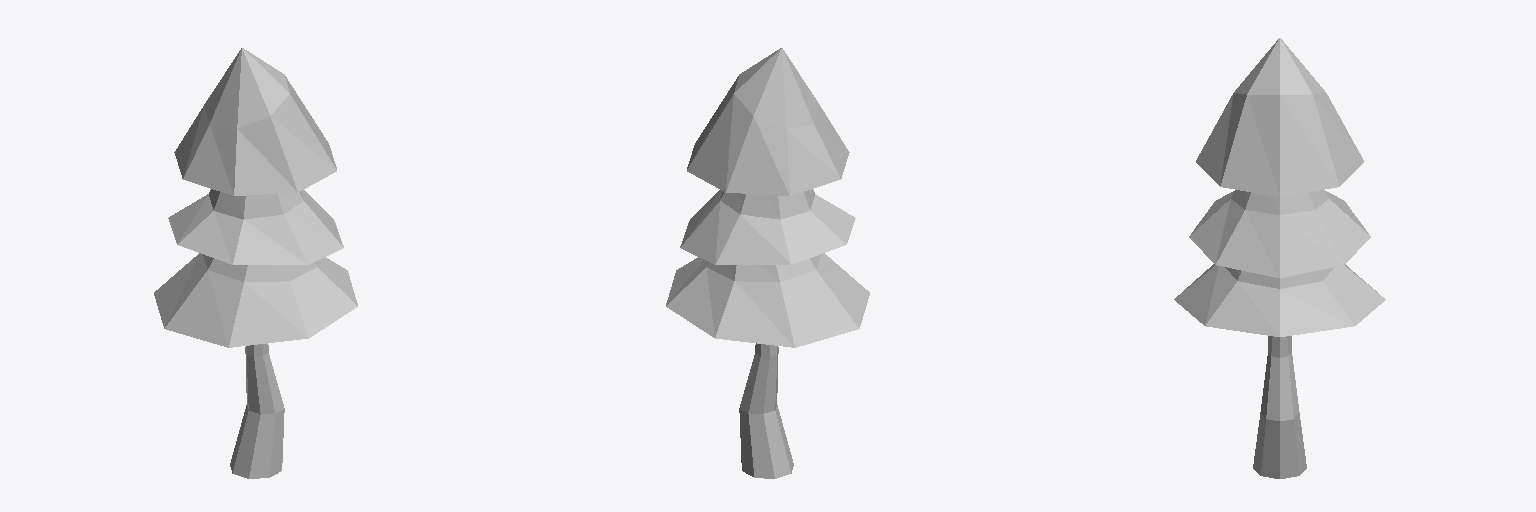
Rendered from medium_needle_tree.obj.
3 renders of one model, left to right at view 1: azimuth 30°, elevation 25°; view 2: azimuth 150°, elevation 25°; view 3: azimuth 270°, elevation 25°, orthographic.
Visible parts, largest first — view 1: Tree_3_Cylinder.001; view 2: Tree_3_Cylinder.001; view 3: Tree_3_Cylinder.001.
Part boxes in pixels (x1,y1,x2,y2): Tree_3_Cylinder.001: (154,48,357,478); Tree_3_Cylinder.001: (666,48,869,478); Tree_3_Cylinder.001: (1174,38,1385,478).
Bounding box in the file's own units: 1.74 × 3.85 × 1.75.